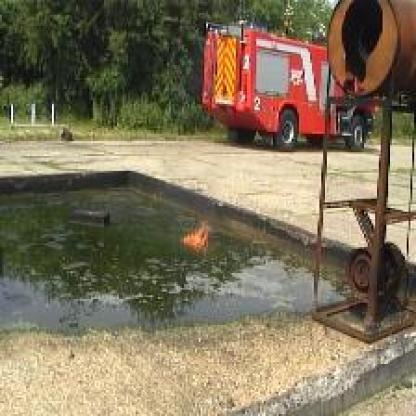fire: (179, 220, 212, 250)
